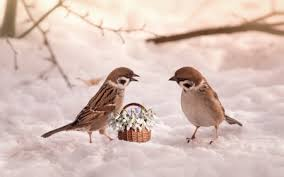home_sparrow: (37, 63, 140, 148), (159, 60, 259, 147)
